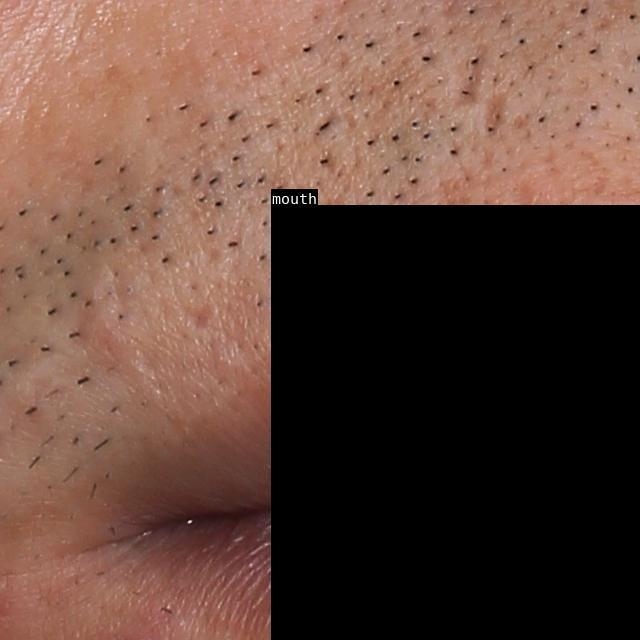atrophic_scar: (452, 41, 492, 108), (479, 87, 513, 139), (177, 297, 217, 334)
